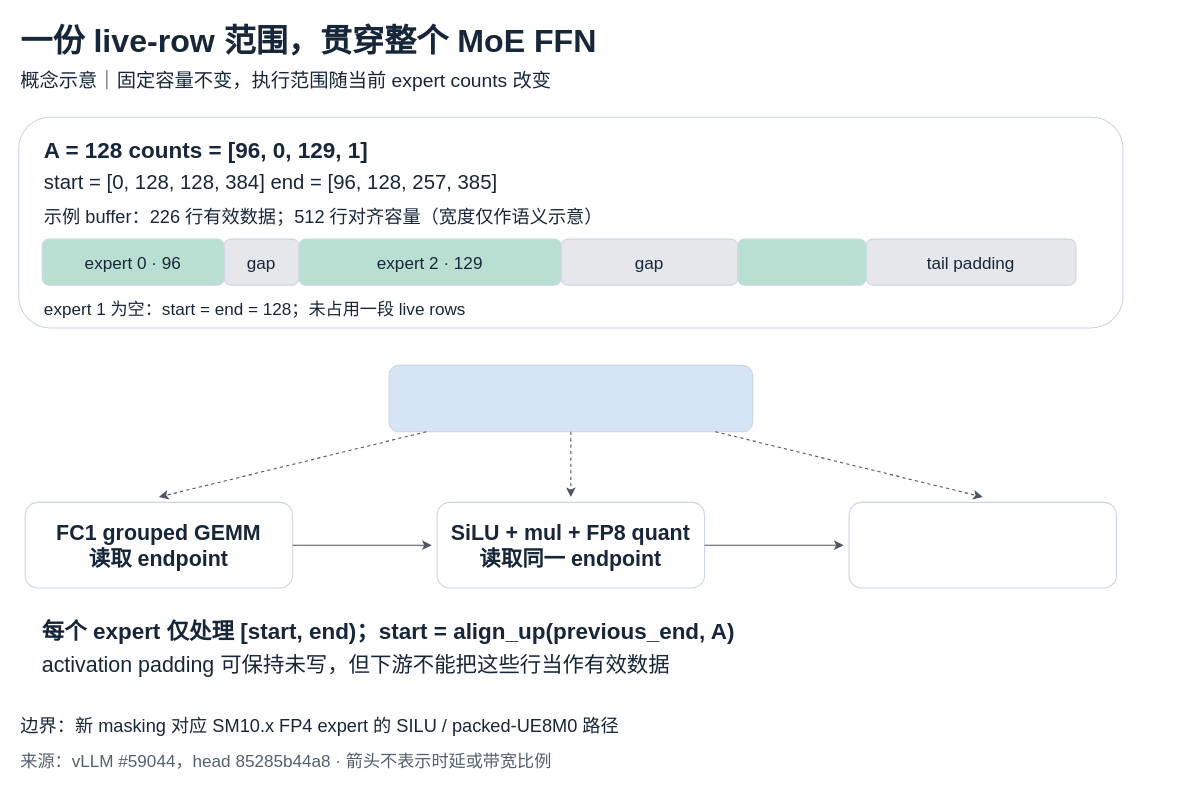
Some shapes in this 1184 by 794 pixel diagram are drawn without their labels. The shapes that lost their labels are listed below. From the top down, each one's box as (x1, y1, x2, y2) in pixels, then its label:
(737, 238, 866, 285): expert 3 · 1
(388, 364, 753, 432): scatter 输出 endpoint[E] 每个 expert 一个 int32
(848, 501, 1117, 588): FC2 grouped GEMM 读取同一 endpoint
